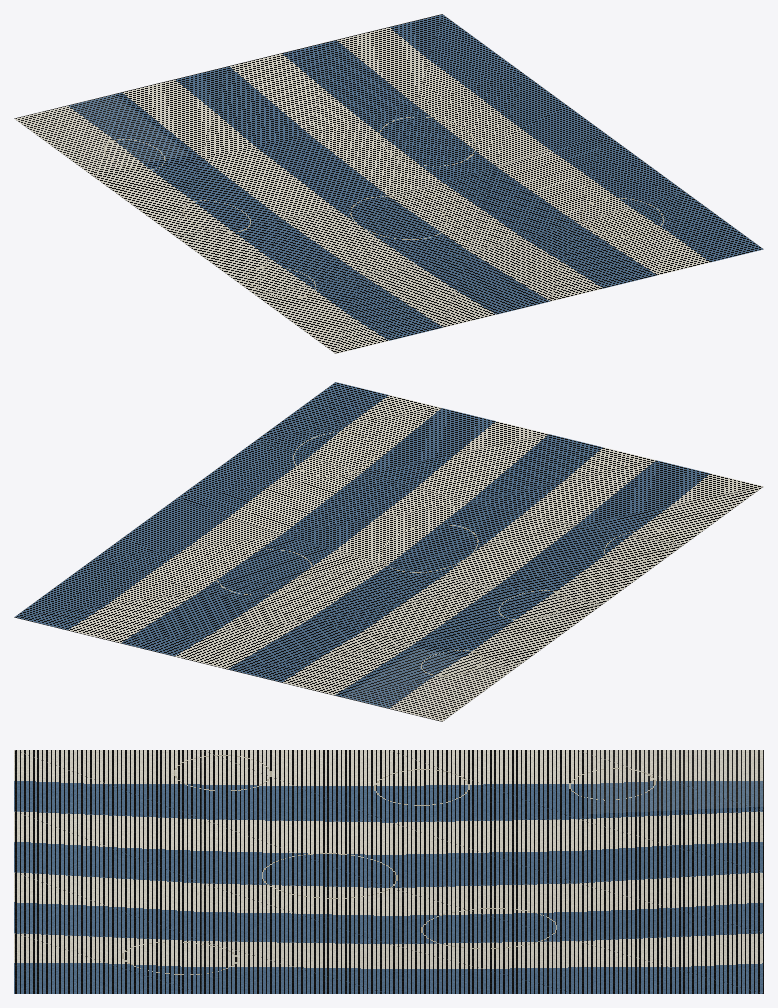
File: RapTang_Bat.glb
3 views of the same model, one above another, from view 1: azimuth 30°, elevation 25°; view 2: azimuth 150°, elevation 25°; view 3: azimuth 270°, elevation 25° (orthographic). The views are drawn at different scales.
Visible parts, largest first — view 1: RapTang_Bat; view 2: RapTang_Bat; view 3: RapTang_Bat.
Boxes of the visible parts, left/top/right/bottom form: RapTang_Bat: left=14, top=14, right=763, bottom=353; RapTang_Bat: left=14, top=382, right=763, bottom=721; RapTang_Bat: left=14, top=750, right=763, bottom=993.
Size of the model in its own units: 2 by 0.06 by 2.6.
1 material, 1 textured.
